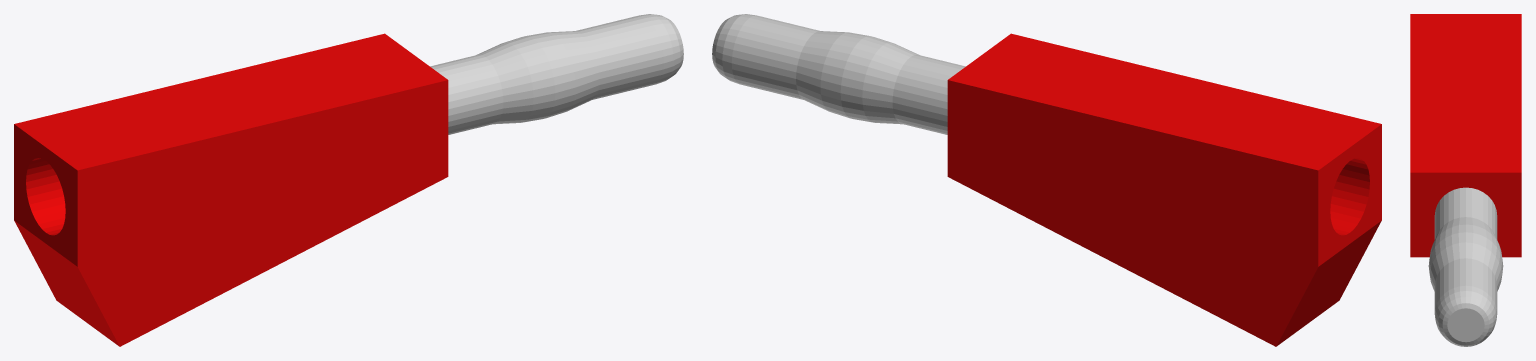
Rendered from redBananaCable.glb.
The picture shows the model from 3 angles, left to right: view 1: azimuth 30°, elevation 25°; view 2: azimuth 150°, elevation 25°; view 3: azimuth 270°, elevation 25°; orthographic projection. The views are drawn at different scales.
Visible parts, largest first — view 1: Cube.002; view 2: Cube.002; view 3: Cube.002.
Boxes of the visible parts, bbox=[...] form: Cube.002: bbox=[14, 14, 683, 346]; Cube.002: bbox=[712, 14, 1381, 346]; Cube.002: bbox=[1410, 14, 1521, 346].
Bounding box in the file's own units: 0.0456 × 0.013 × 0.008.
